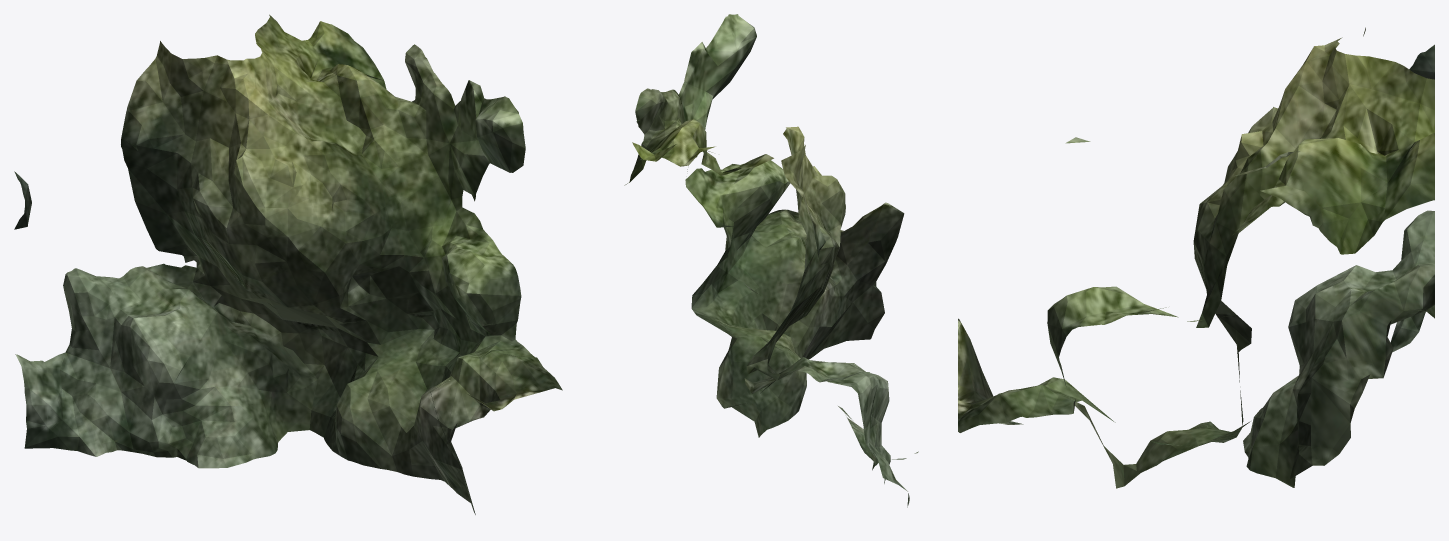
3 renders of one model, left to right at view 1: azimuth 30°, elevation 25°; view 2: azimuth 150°, elevation 25°; view 3: azimuth 270°, elevation 25°, orthographic. The views are drawn at different scales.
Size of the model in its own units: 5.9 by 5.9 by 5.9.
Materials: 5 (5 with a texture image).
